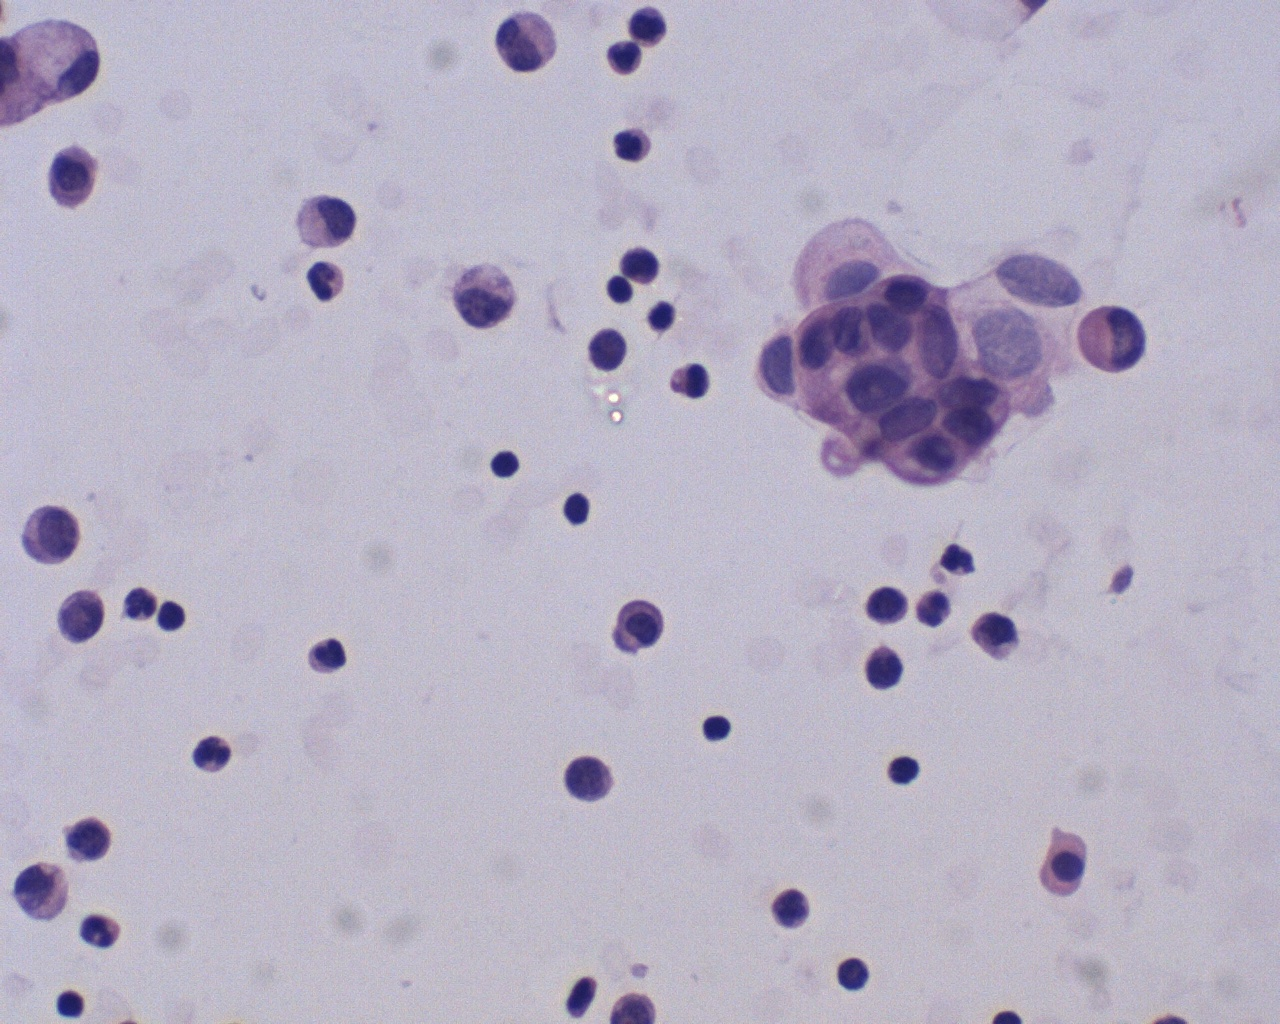ab: (914, 300, 984, 385), (19, 501, 95, 573), (839, 355, 920, 416), (929, 363, 1017, 412), (878, 392, 948, 444), (54, 588, 111, 649)
histo: (11, 15, 107, 106)
lymph: (880, 746, 928, 793), (694, 709, 744, 752), (906, 584, 951, 631), (553, 484, 602, 525), (489, 442, 533, 487)
meso: (1071, 298, 1157, 379)
neutro: (187, 722, 235, 776), (305, 255, 353, 308), (611, 119, 661, 167), (305, 633, 351, 683), (80, 905, 126, 953), (604, 36, 646, 78), (123, 582, 158, 627)
